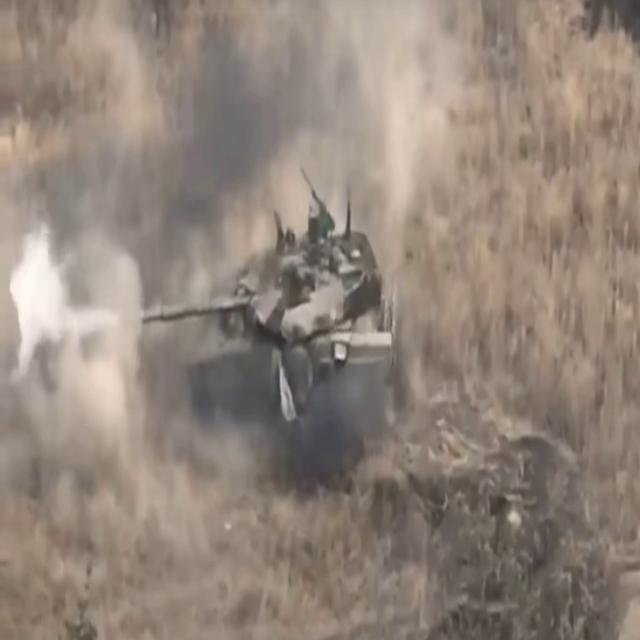MBT: (137, 169, 395, 458)
